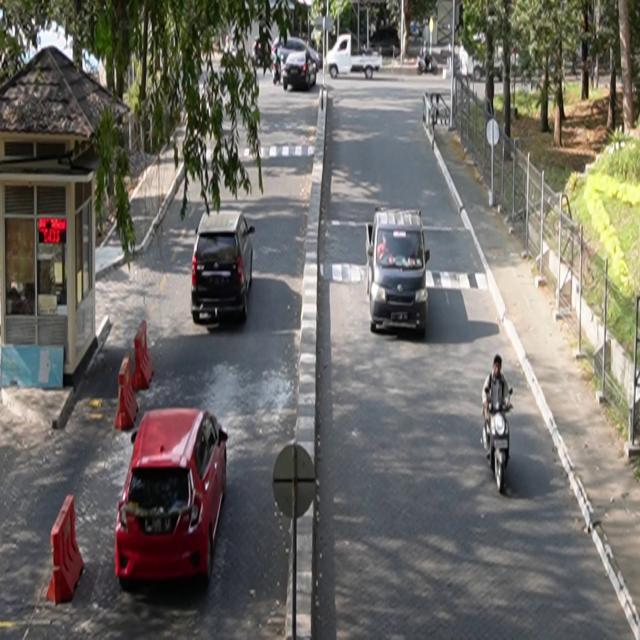car: (115, 407, 229, 588), (366, 207, 431, 336), (192, 209, 256, 326)
